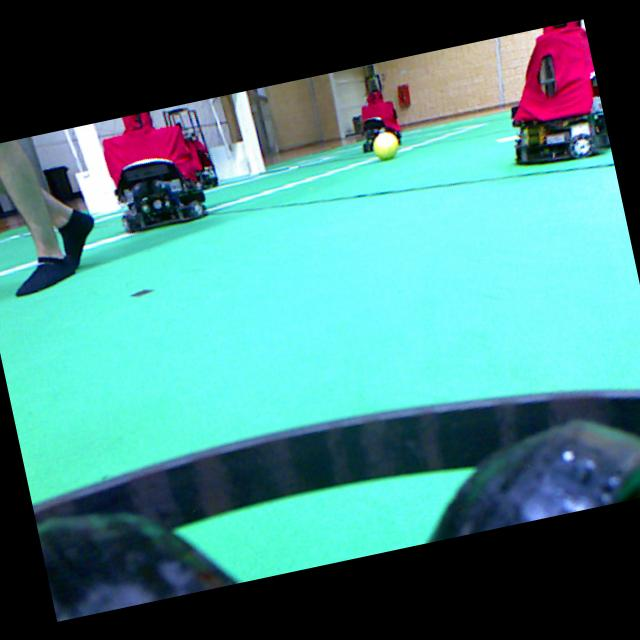ball: (372, 131, 397, 159)
goal: (74, 123, 120, 213), (232, 91, 264, 173)
